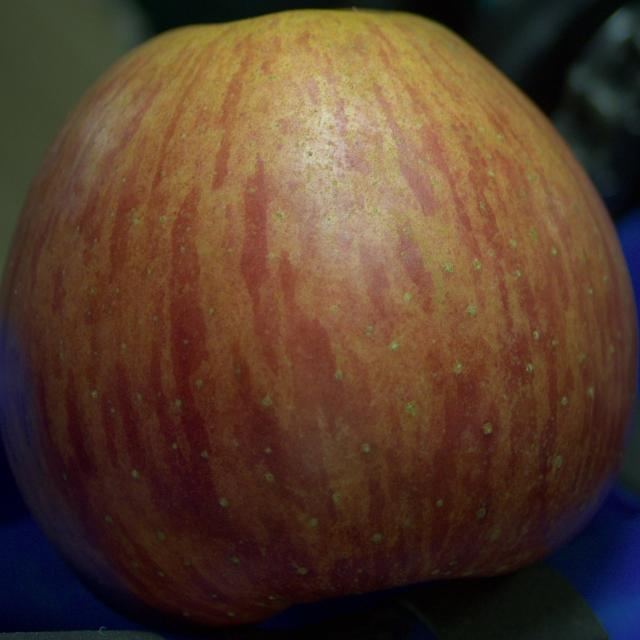apple: (0, 9, 638, 626)
